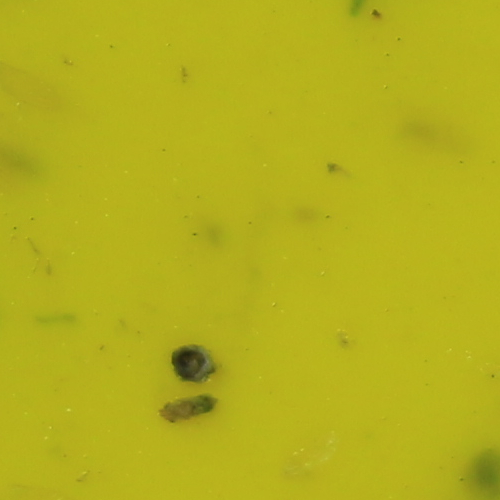Glycaspis: (154, 393, 217, 424)
